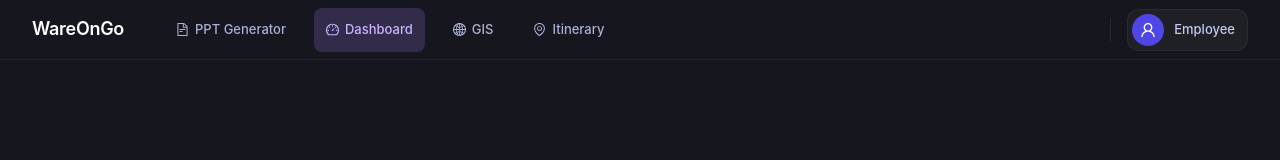
current header navigation › opens and closes the desktop PPT input
Click the link "PPT Generator": (231,29) [176, 21, 286, 37]
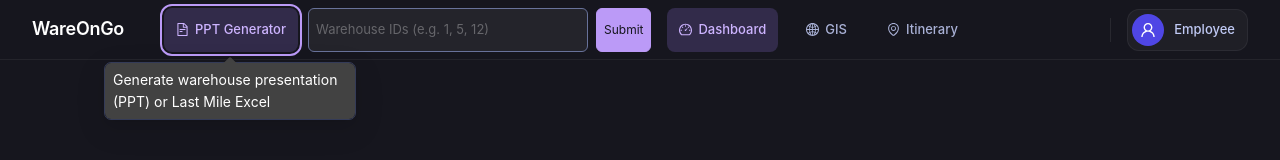
expect the button "Submit" is shown: met, box [596, 8, 652, 52]
Click the link "PPT Generator": (231,30) [164, 8, 298, 52]
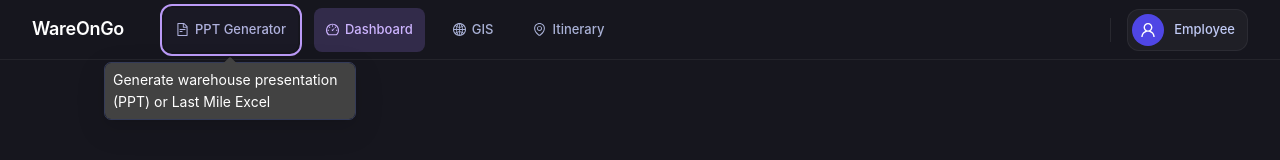
expect the button "Submit" is gone: met
